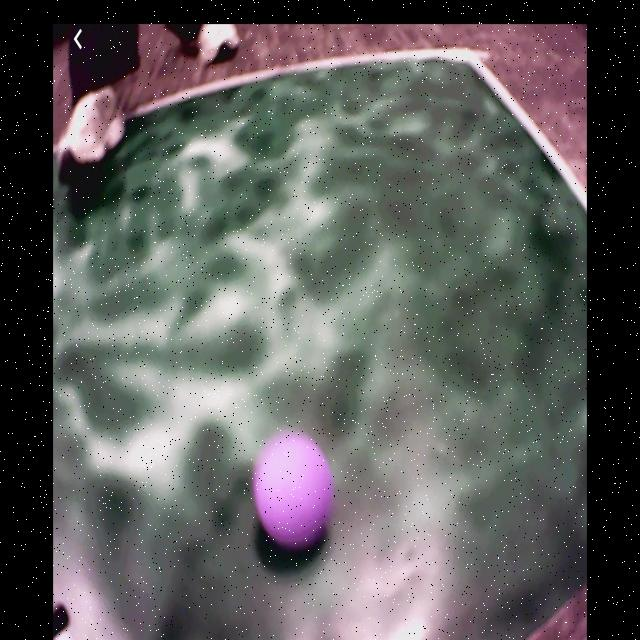ball: (256, 439, 336, 546)
